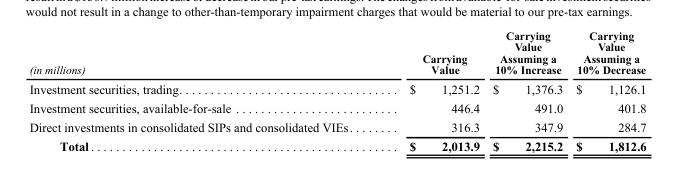table: (28, 28, 645, 152)
table column: (28, 28, 380, 152), (380, 28, 485, 152), (485, 28, 568, 152), (568, 28, 645, 152)
table column header: (28, 28, 645, 78)
table row: (28, 28, 645, 78), (28, 78, 645, 98), (28, 116, 645, 135), (28, 98, 645, 116), (28, 135, 645, 152)
